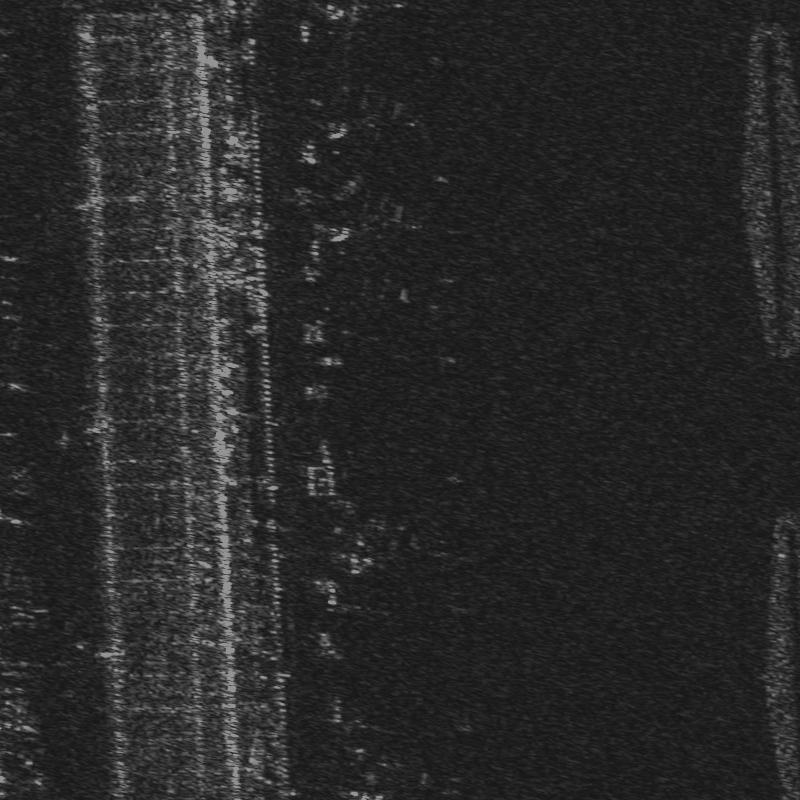A320/321: (307, 193, 429, 265), (322, 86, 423, 150)
